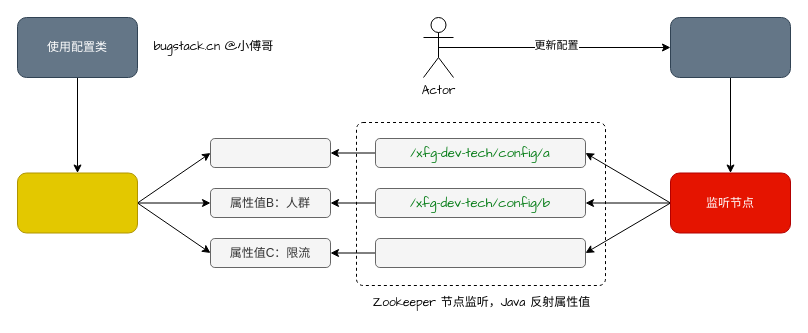
Image size: 808x333. Some labels were removed from this diagram. The centre of each missing label's shape, as x and y in pixels:
"/xfg-dev-tech/config/c" belongs at pixel 480 253.
"对象配置类" belongs at pixel 77 202.
"属性值A：开关" belongs at pixel 270 153.
"配置中心" belongs at pixel 730 47.
